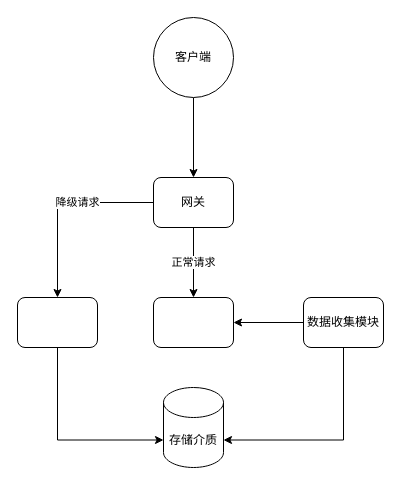
This 401x485 diagram has some shape labels left out. Here are the shapes that lost their labels. From the top down, the centre of each, then its label:
[57,322]: 系统降级模块
[193,322]: 服务端
